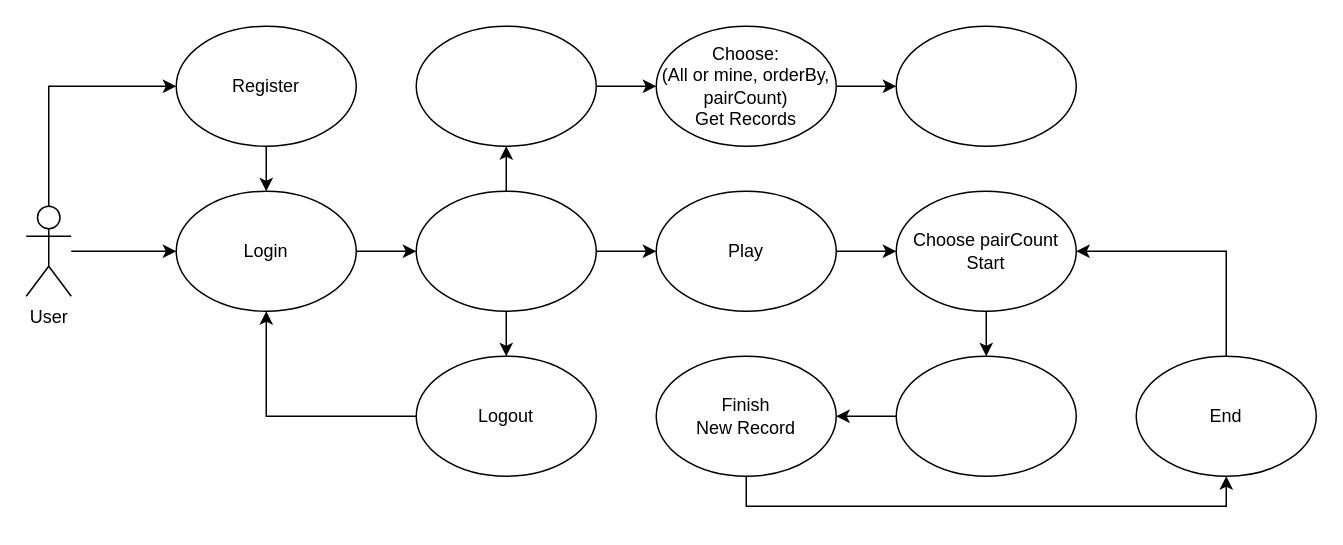
The diagram is 1343 pixels wide and 545 high, and some of its shapes have lost their labels. The centre of each missing label's shape, as x and y in pixels:
"Game" belongs at pixel 985 415.
"Layout" belongs at pixel 505 250.
"Records" belongs at pixel 505 85.
"Table (10 rows max)" belongs at pixel 985 85.
